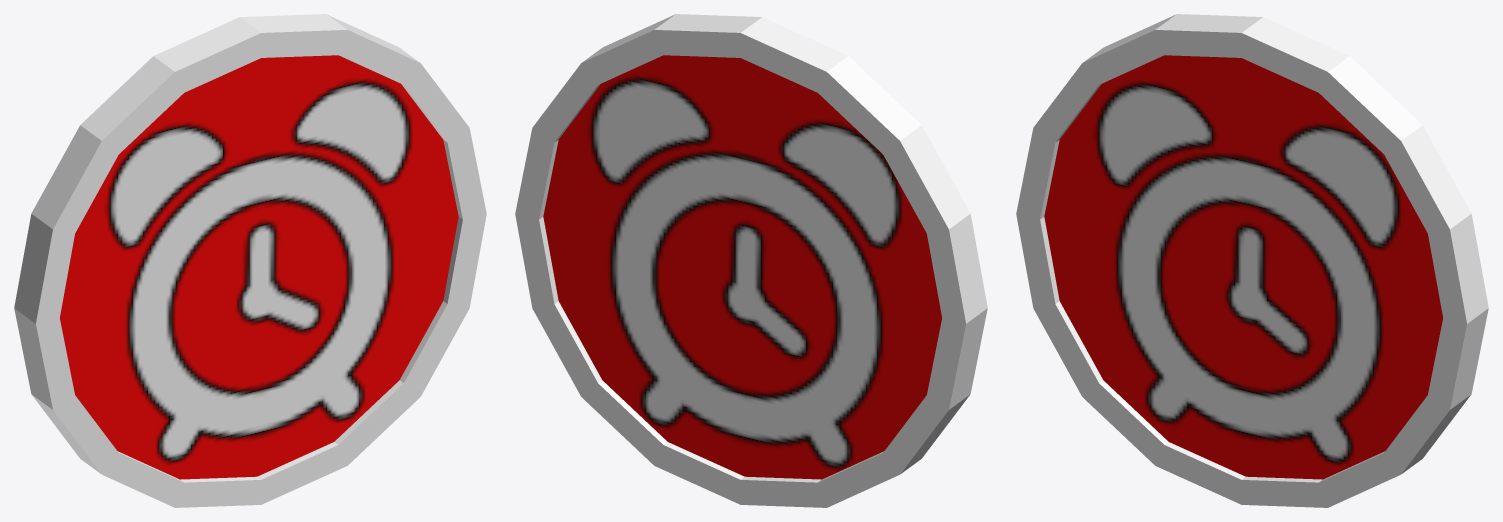
The model's file is wait-red.gltf.
3 renders of one model, left to right at view 1: azimuth 30°, elevation 25°; view 2: azimuth 150°, elevation 25°; view 3: azimuth 330°, elevation 25°, orthographic.
Visible parts, largest first — view 1: wait-red; view 2: wait-red; view 3: wait-red.
Part boxes in pixels (x1,y1,x2,y2): wait-red: [14, 14, 486, 507]; wait-red: [515, 14, 987, 507]; wait-red: [1016, 14, 1488, 507].
Size of the model in its own units: 0.6 by 0.6 by 0.05.
1 material, 1 textured.
